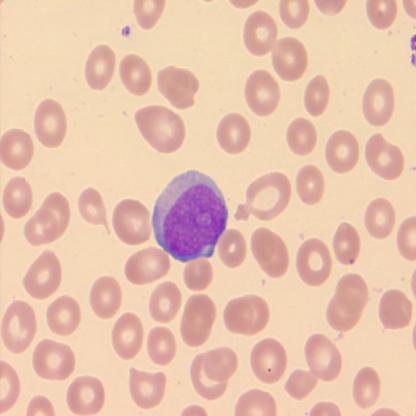Blast: (149, 166, 231, 262)
